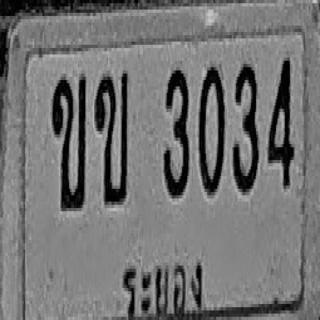A02: (51, 72, 86, 210), (95, 70, 129, 205)
N00: (198, 64, 225, 195)
N03: (232, 61, 258, 192), (163, 67, 189, 198)
N04: (267, 56, 294, 187)
P53: (110, 243, 210, 320)
